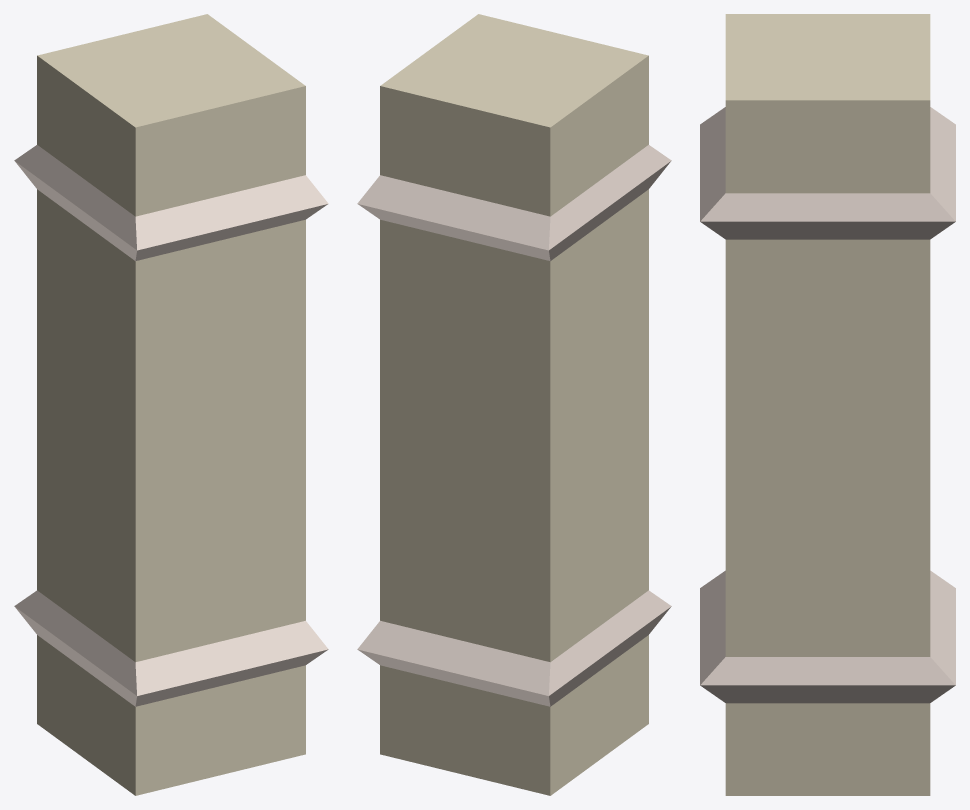
File: roman_wall_column_1.fbx
3 views of the same model, side by side, from view 1: azimuth 30°, elevation 25°; view 2: azimuth 150°, elevation 25°; view 3: azimuth 270°, elevation 25° (orthographic). The views are drawn at different scales.
Visible parts, largest first — view 1: Cube.012; view 2: Cube.012; view 3: Cube.012.
Boxes of the visible parts, x1=… form: Cube.012: x1=14, y1=14, x2=328, y2=795; Cube.012: x1=357, y1=14, x2=671, y2=795; Cube.012: x1=700, y1=14, x2=955, y2=795.
Bounding box in the file's own units: 0.9 × 3 × 1.
